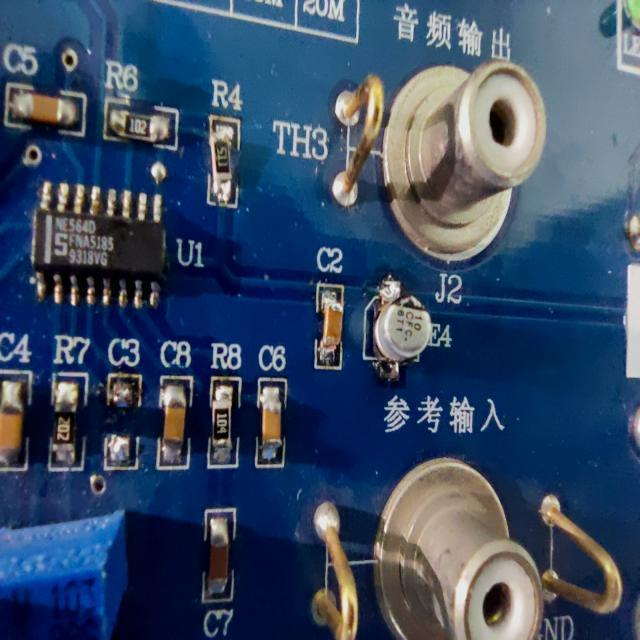Missing component: (100, 334, 147, 480)
